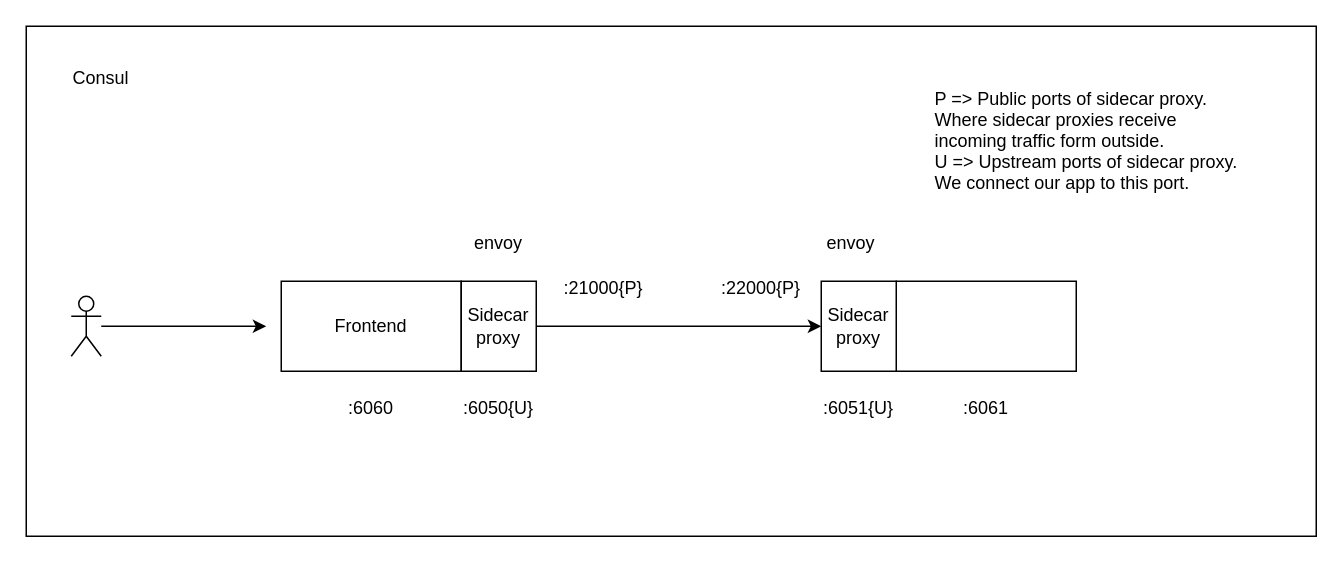
The diagram is 1343 pixels wide and 563 high, and some of its shapes have lost their labels. The shapes that lost their labels are listed below. From the top down, each one's centre as x and y in pixels, then its label:
[85,325]: Actor
[985,325]: Backend
